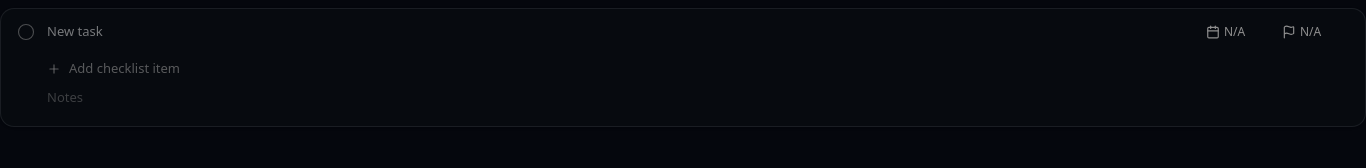
Scenario: InlineTaskCard › shows preview chip when context token is parsed
Type "Task #Work" into the field with placeholder "New task" at (617, 32), box [47,23,1187,41]
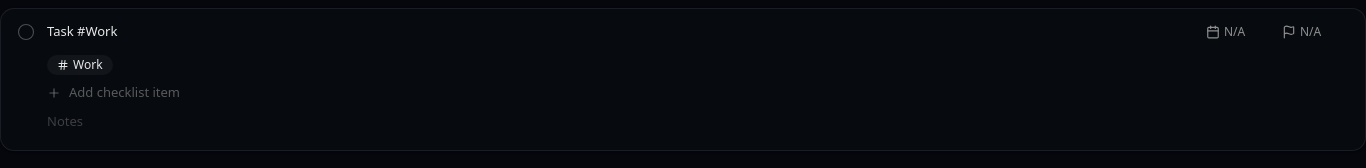
Result: the element with test id "chip-context" is shown at [47,55,112,75]
